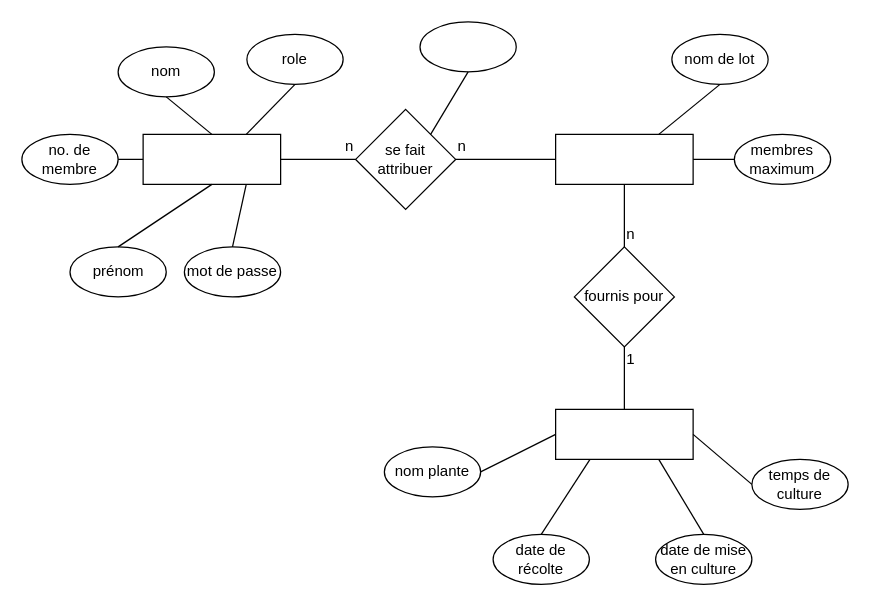
The diagram is 870 pixels wide and 606 high, and some of its shapes have lost their labels. The box of each missing label's shape, as (x1, y1, x2, y2) in pixels:
Lots: (554, 133, 693, 184)
Membres: (142, 133, 281, 184)
Plantes: (554, 408, 693, 459)
validation par admin: (419, 21, 516, 72)
